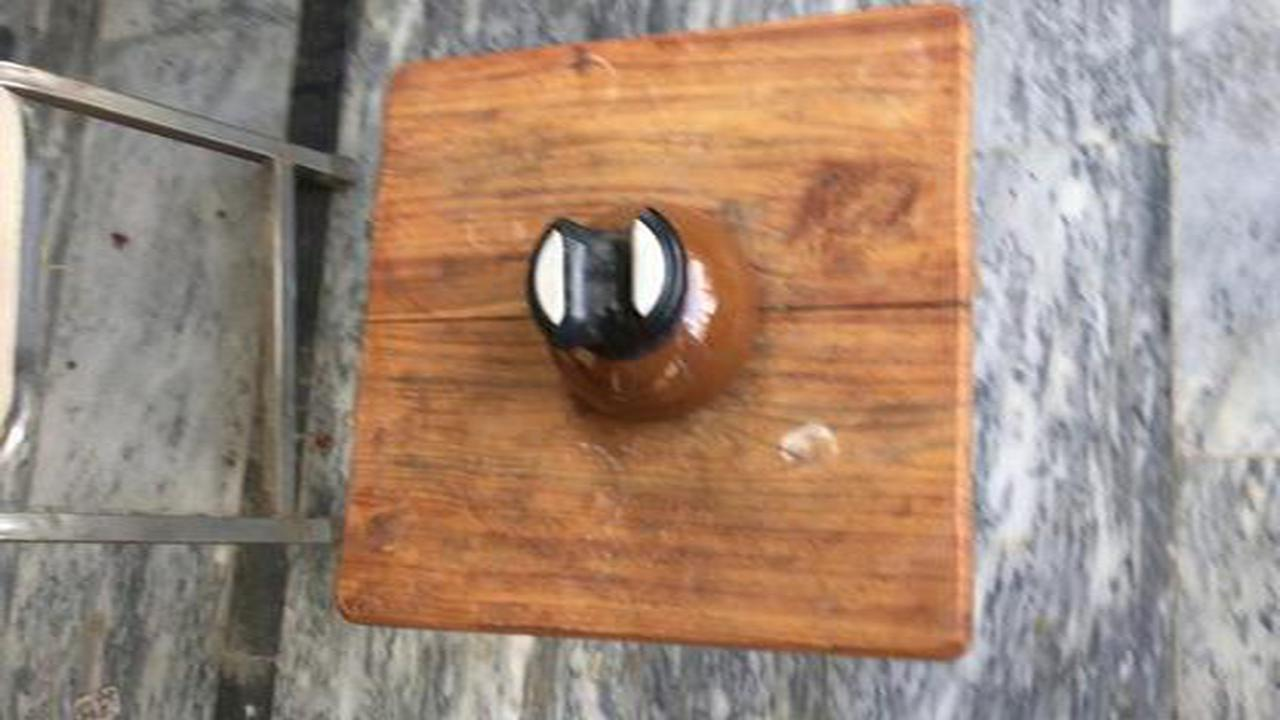insulator_pin: (505, 199, 797, 442)
